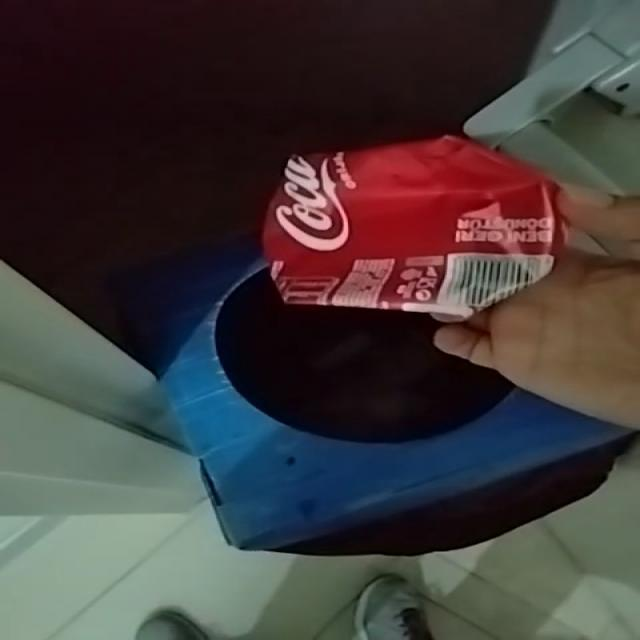bin: (163, 271, 635, 556)
metal: (263, 135, 564, 319)
